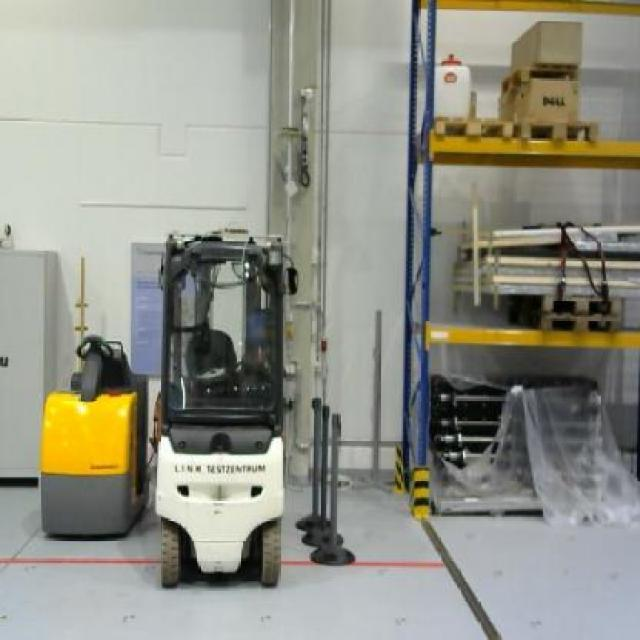box: (498, 82, 580, 130), (512, 20, 580, 69)
